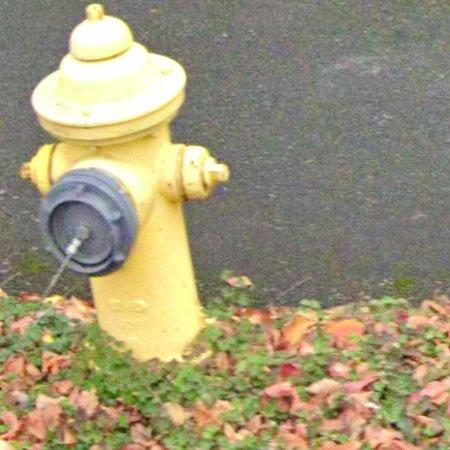a fire hydrant: (20, 3, 230, 361)
